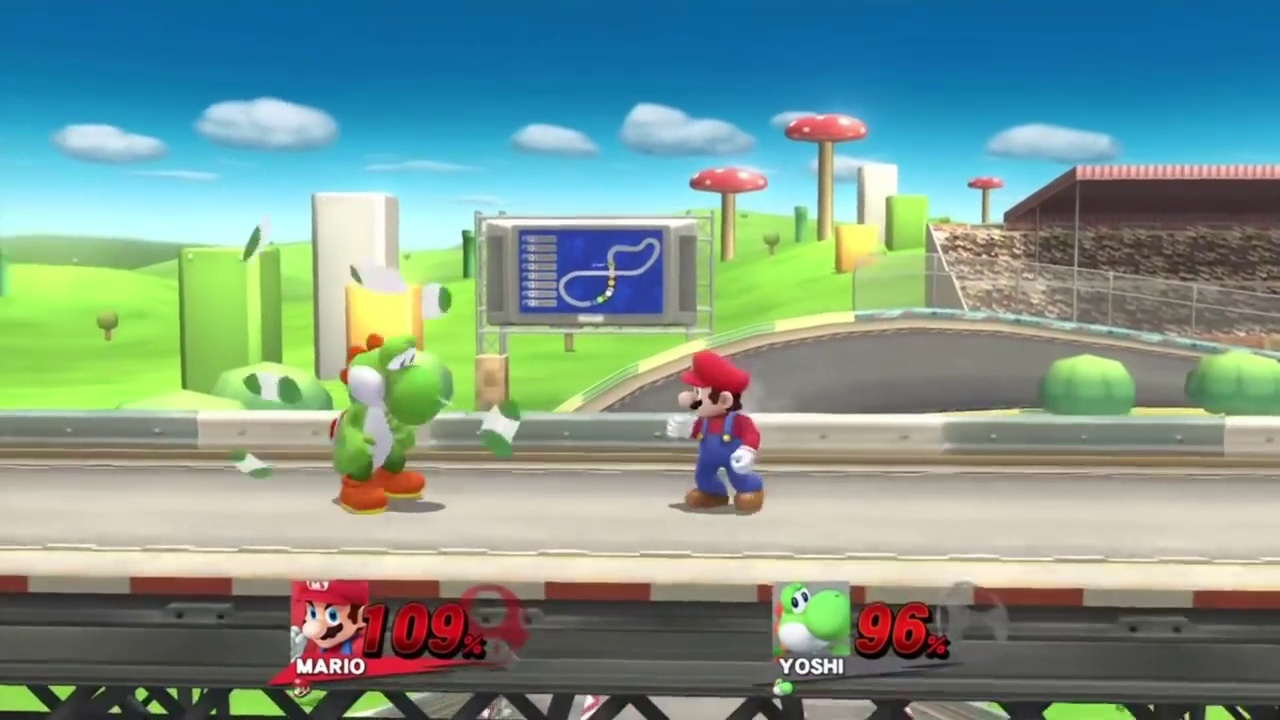Mario: (667, 352, 762, 517)
